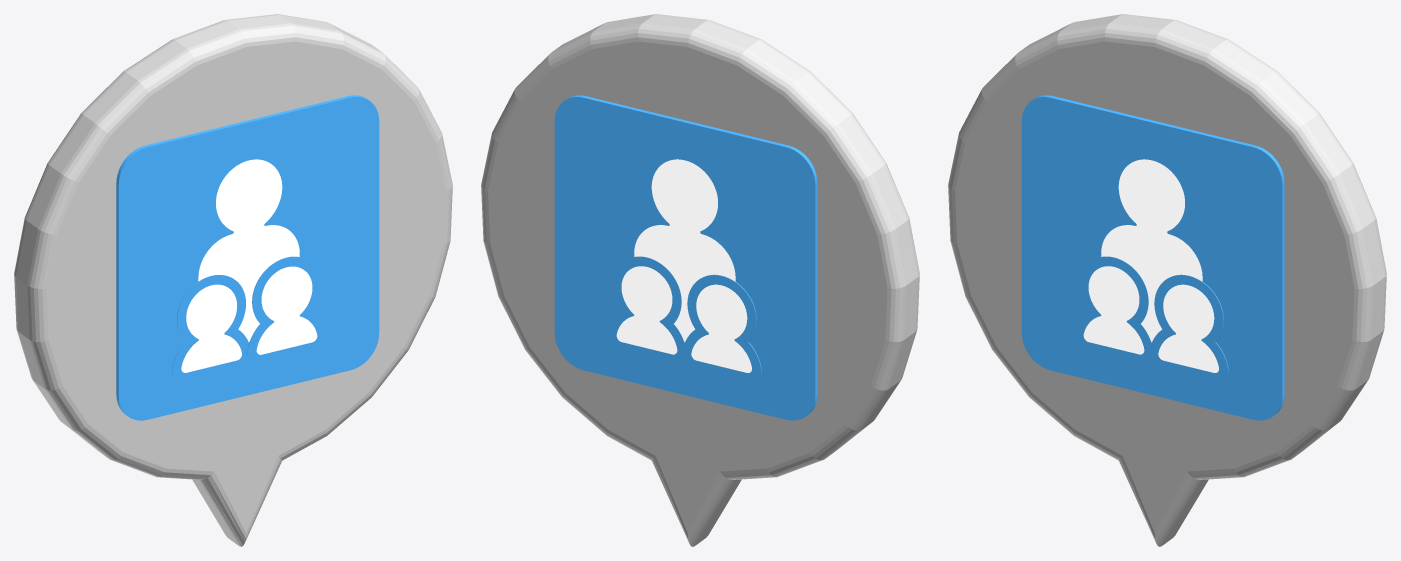
The model's file is man_girl_boy.glb.
3 renders of one model, left to right at view 1: azimuth 30°, elevation 25°; view 2: azimuth 150°, elevation 25°; view 3: azimuth 330°, elevation 25°, orthographic.
Visible parts, largest first — view 1: EmotionBubble; view 2: EmotionBubble; view 3: EmotionBubble.
Boxes of the visible parts, x1,y1,x2,y2 form: EmotionBubble: (14,14,452,546); EmotionBubble: (481,14,919,546); EmotionBubble: (948,14,1386,546).
Size of the model in its own units: 5.29 by 6.16 by 0.7.
